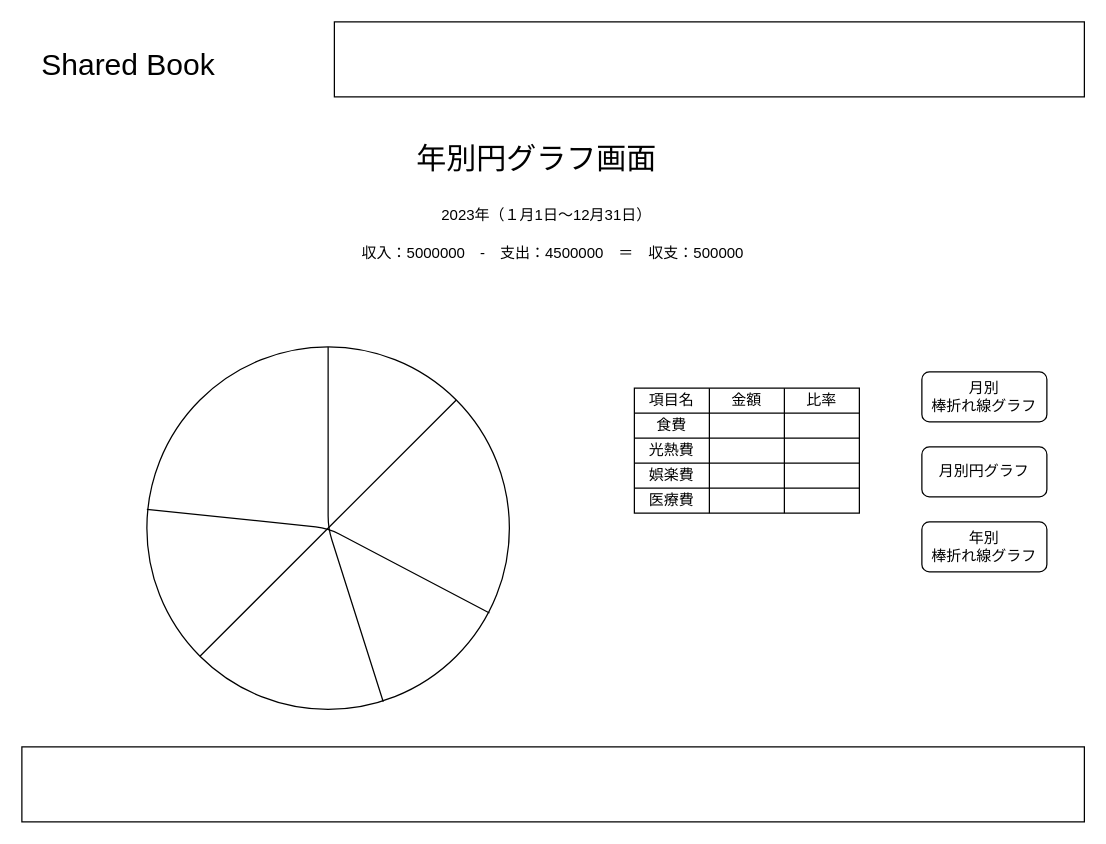
The diagram is 1106 pixels wide and 844 high, and some of its shapes have lost their labels. Here are the shapes that lost their labels. From the top down, the centre of each, then its label:
At point (708, 59): "収入支出一覧 項目一覧 カレンダー一覧 月別グラフ 割勘一覧 アカウント ログアウト".
At point (552, 784): "@ 2024 Shared Book ALL RIGHTS RESERVED.".
